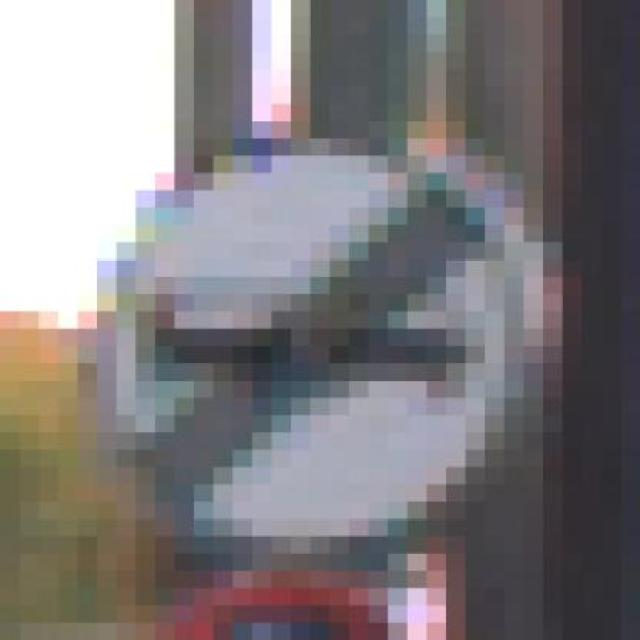No_Over_Taking: (58, 69, 562, 554)
